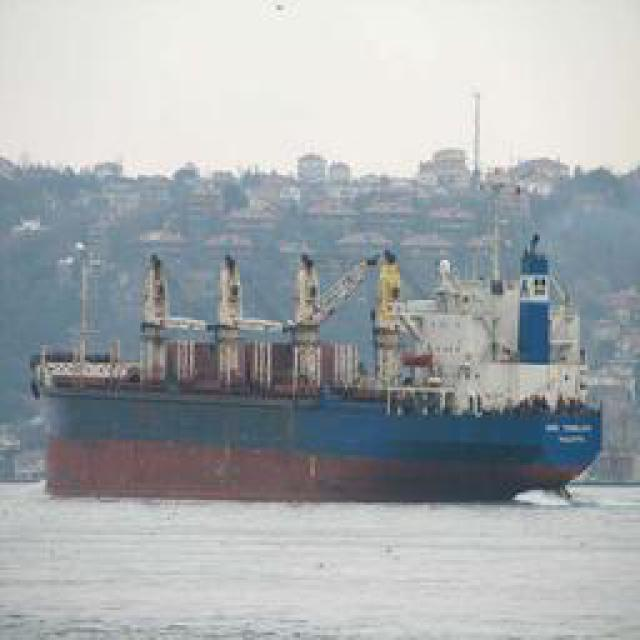Ship: (33, 176, 598, 496)
